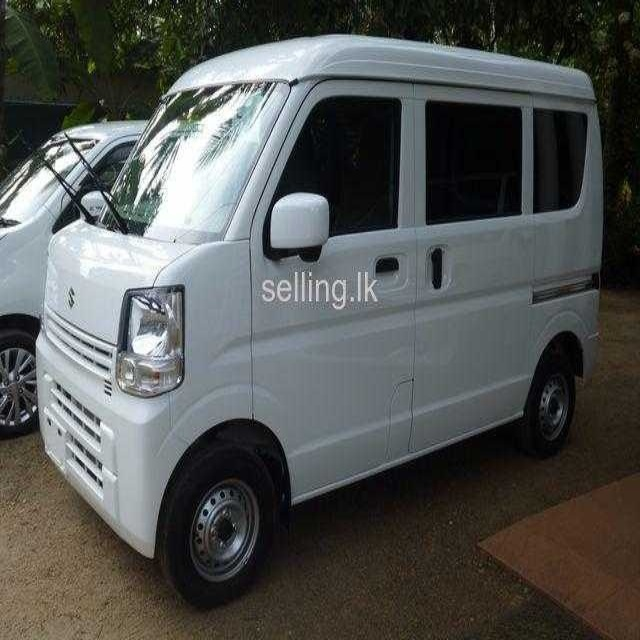Car: (1, 121, 161, 440)
Van: (35, 33, 603, 611)
